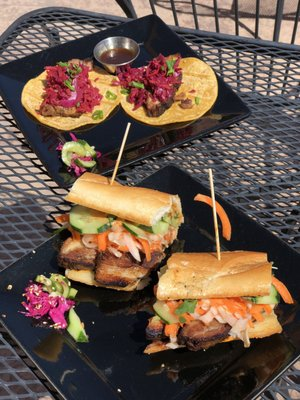soup: (57, 171, 184, 292), (145, 250, 286, 353)
sushi: (93, 36, 140, 75)
